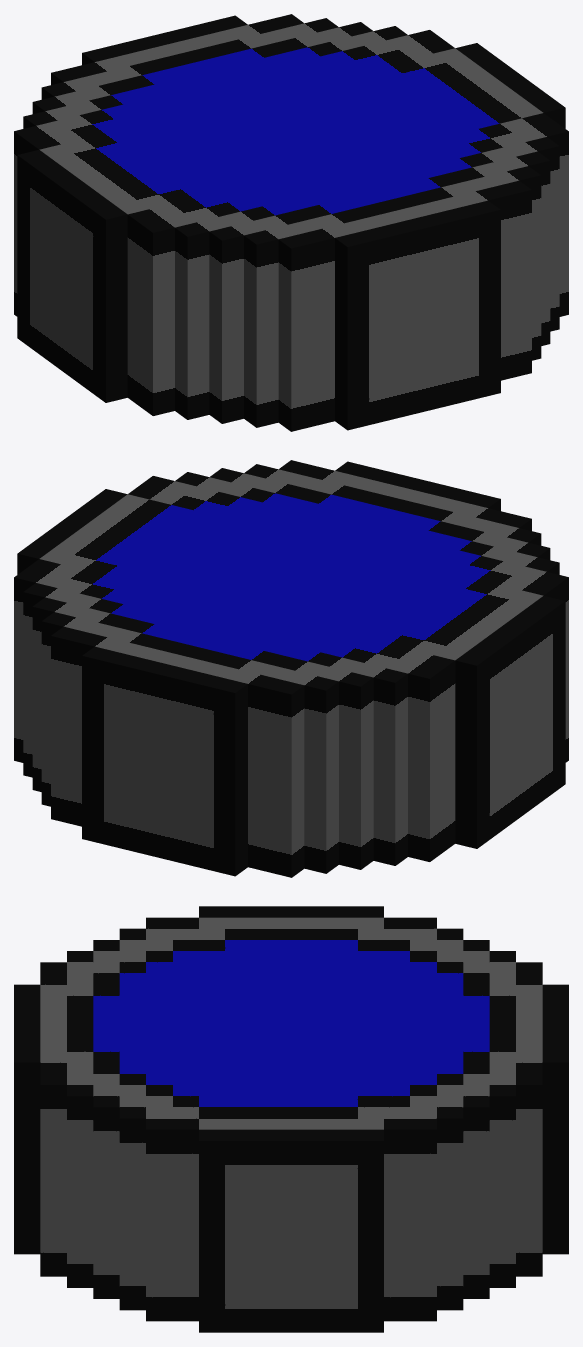
The model's file is waterbucket1.fbx.
3 views of the same model, one above another, from view 1: azimuth 30°, elevation 25°; view 2: azimuth 150°, elevation 25°; view 3: azimuth 270°, elevation 25° (orthographic). The views are drawn at different scales.
Parts seen in each view (by area): view 1: Matrix; view 2: Matrix; view 3: Matrix.
Boxes of the visible parts, x1,y1,x2,y2 form: Matrix: [14, 14, 568, 431]; Matrix: [14, 460, 568, 877]; Matrix: [14, 906, 568, 1332].
Bounding box in the file's own units: 21 × 8 × 21.
Materials: 1 (1 with a texture image).
